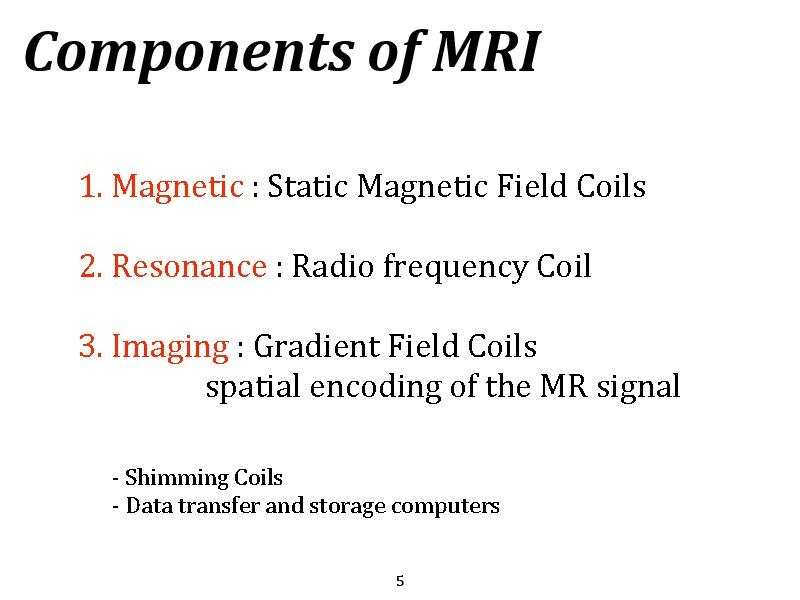paragraph: (67, 144, 726, 543)
title: (22, 4, 558, 107)
